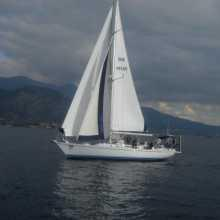fanchuan: (57, 1, 179, 164)
